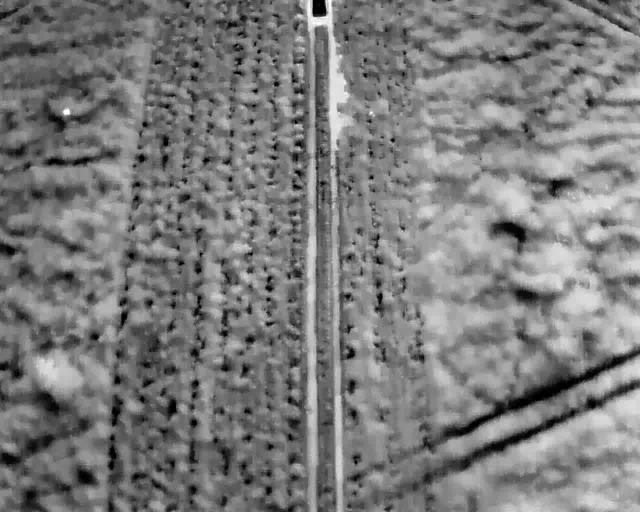car: (309, 0, 329, 18)
